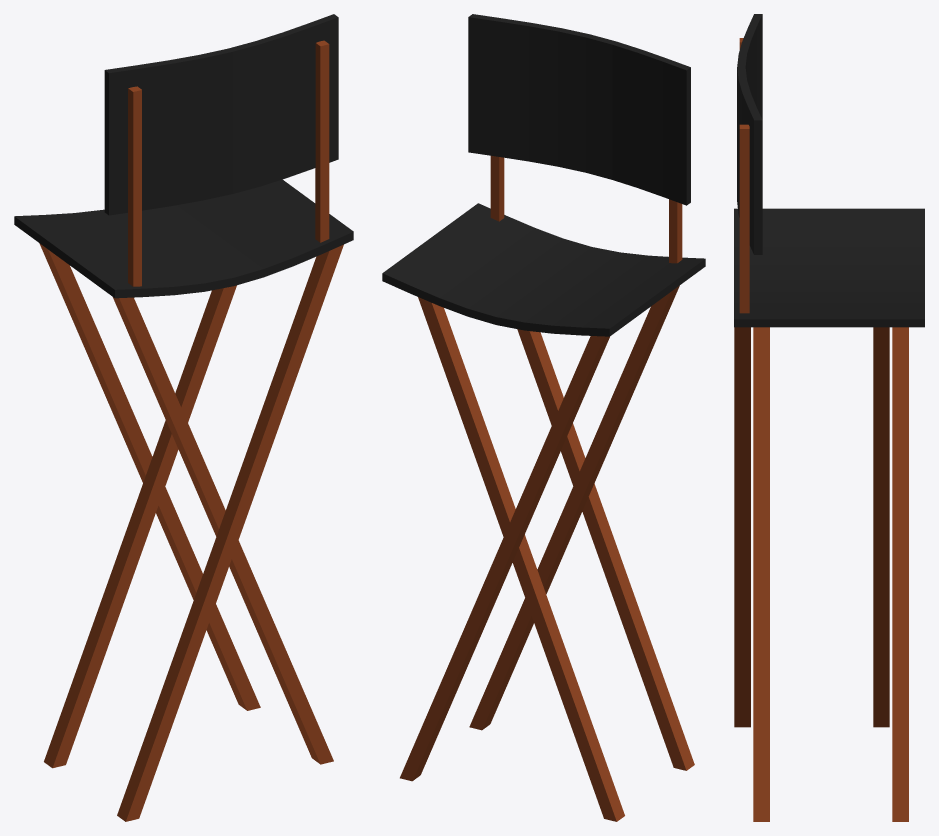
Rendered from DirectorChair.fbx.
3 views of the same model, side by side, from view 1: azimuth 30°, elevation 25°; view 2: azimuth 150°, elevation 25°; view 3: azimuth 270°, elevation 25° (orthographic). The views are drawn at different scales.
Visible parts, largest first — view 1: DirectorChair; view 2: DirectorChair; view 3: DirectorChair.
Part boxes in pixels (x1,y1,x2,y2): DirectorChair: [14, 14, 353, 821]; DirectorChair: [382, 14, 705, 821]; DirectorChair: [734, 14, 924, 821].
Bounding box in the file's own units: 41.28 × 123 × 30.14.
